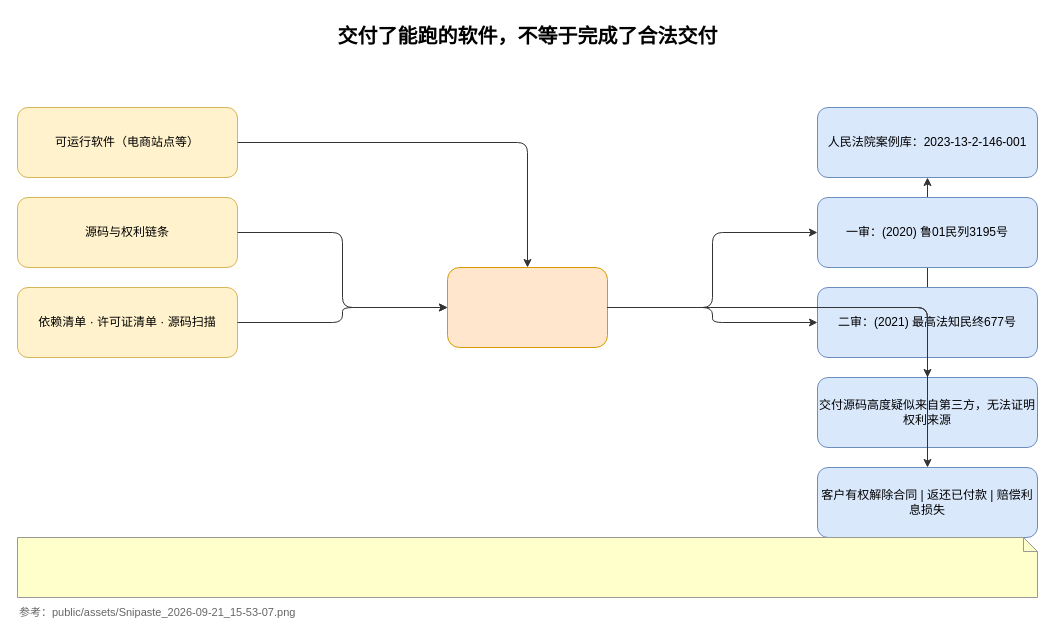
Image size: 1055x638. Some labels were removed from this diagram. Here are the shapes that lost their labels. From the top down, the centre of each, then its label:
[527,307]: 权利链条断裂
[527,567]: 依赖清单 | 许可证清单 | 源码扫描 | 权利瑕疵担保
